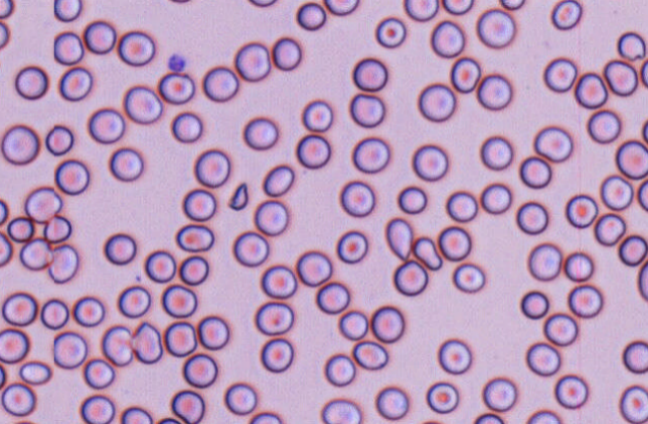PLT: (168, 52, 185, 72)
RBC: (476, 8, 515, 48), (1, 124, 39, 165), (123, 85, 162, 124), (417, 83, 456, 122), (234, 41, 271, 81), (533, 125, 573, 162), (193, 148, 230, 187), (351, 136, 390, 173), (24, 186, 62, 223), (87, 107, 125, 144), (411, 143, 448, 181), (232, 230, 269, 267), (202, 65, 239, 102), (117, 30, 155, 66), (527, 242, 562, 281), (254, 301, 294, 335), (101, 324, 133, 366), (131, 321, 162, 364), (295, 250, 332, 286), (339, 180, 375, 217), (476, 73, 512, 110), (52, 331, 87, 369), (430, 20, 465, 58), (615, 139, 648, 179), (182, 352, 218, 388), (295, 133, 331, 169), (393, 259, 428, 296), (260, 264, 297, 299), (54, 158, 89, 195), (603, 59, 638, 96), (370, 305, 404, 343), (574, 71, 608, 109), (481, 376, 517, 411), (437, 338, 472, 374), (253, 199, 288, 235), (163, 320, 197, 357), (157, 71, 195, 104), (47, 243, 78, 283), (2, 291, 37, 326), (525, 341, 560, 376), (349, 92, 384, 127), (586, 108, 621, 143), (0, 382, 36, 416), (554, 373, 588, 409), (161, 284, 197, 318), (567, 284, 603, 318), (543, 56, 577, 92), (437, 225, 471, 261), (242, 116, 278, 150), (170, 389, 205, 423), (58, 66, 92, 101), (543, 312, 578, 346), (108, 147, 143, 181), (352, 57, 387, 91), (479, 135, 513, 170), (260, 337, 293, 373), (600, 174, 633, 210), (449, 56, 481, 93), (223, 381, 257, 415), (14, 65, 48, 99), (315, 281, 350, 314), (375, 385, 408, 420), (565, 193, 598, 228), (175, 223, 214, 252), (19, 237, 53, 270), (83, 20, 116, 54), (117, 285, 151, 318), (182, 188, 216, 221), (515, 200, 548, 234), (197, 315, 229, 350), (619, 384, 647, 423), (103, 232, 136, 265), (262, 163, 294, 197), (144, 249, 176, 283), (425, 381, 459, 413), (594, 212, 626, 246), (336, 229, 368, 263), (352, 340, 388, 370), (519, 155, 551, 188), (445, 190, 478, 222), (301, 99, 333, 132), (271, 36, 302, 70), (53, 31, 84, 65), (0, 327, 29, 363), (79, 394, 115, 423), (320, 398, 361, 423), (83, 357, 115, 389), (72, 295, 104, 327), (324, 353, 355, 386), (452, 262, 485, 293), (563, 250, 594, 282), (480, 182, 511, 214), (375, 16, 406, 48), (171, 111, 202, 143), (618, 234, 648, 266), (550, 0, 582, 30), (338, 309, 368, 340), (178, 255, 209, 285), (40, 298, 69, 329), (295, 1, 326, 30), (622, 340, 648, 374), (397, 185, 427, 214), (617, 31, 646, 61), (45, 124, 73, 155), (520, 290, 549, 319), (18, 360, 51, 385), (43, 214, 71, 243), (403, 0, 438, 21), (6, 216, 34, 242), (53, 0, 82, 21), (120, 406, 153, 423), (323, 0, 359, 15), (525, 409, 561, 423), (637, 258, 648, 301), (442, 0, 473, 15), (0, 231, 12, 266), (248, 411, 282, 423), (637, 177, 648, 211), (473, 412, 504, 423), (498, 0, 525, 10), (0, 20, 9, 49), (640, 57, 648, 88), (0, 0, 13, 18), (247, 0, 278, 7), (0, 198, 8, 225), (641, 116, 648, 145), (155, 417, 182, 423), (0, 363, 6, 388), (417, 419, 445, 424), (11, 419, 37, 424), (166, 0, 192, 3)
Schistocyte: (386, 217, 413, 261), (414, 235, 443, 269), (228, 181, 250, 211)
